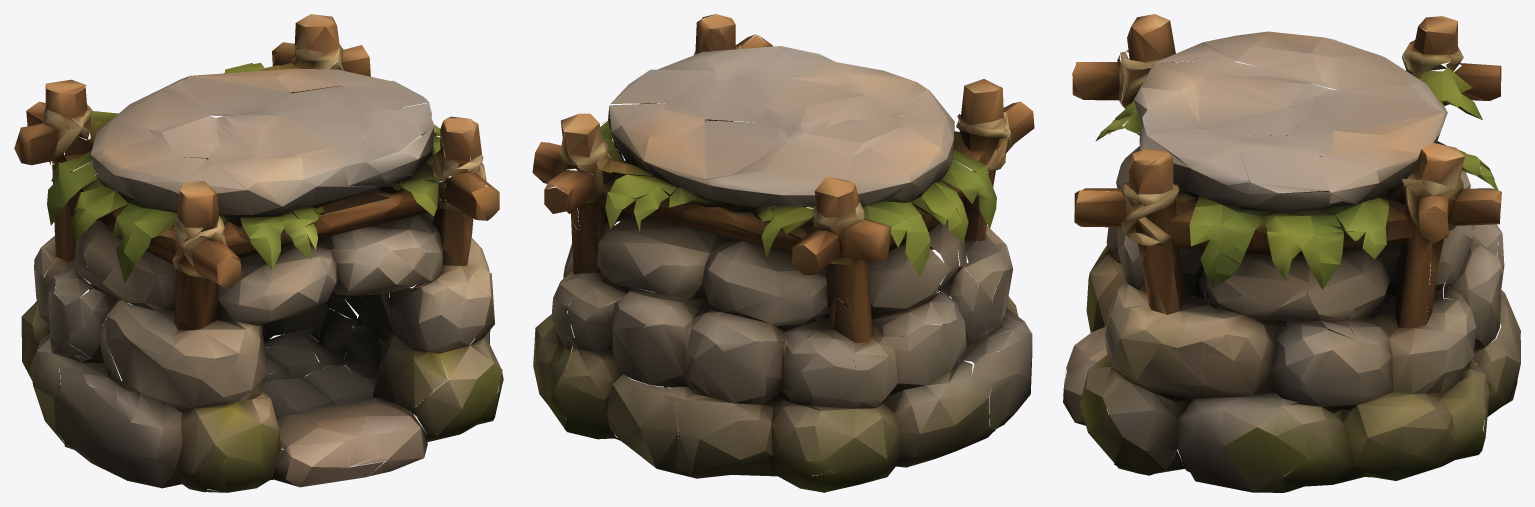
The model's file is building-stove-smooth-low.glb.
The picture shows the model from 3 angles, left to right: view 1: azimuth 30°, elevation 25°; view 2: azimuth 150°, elevation 25°; view 3: azimuth 270°, elevation 25°; orthographic projection. The views are drawn at different scales.
Parts seen in each view (by area): view 1: 0_stove; view 2: 0_stove; view 3: 0_stove.
Part boxes in pixels (x1,y1,x2,y2): 0_stove: (14,14,503,492); 0_stove: (532,14,1034,492); 0_stove: (1063,14,1520,492).
Size of the model in its own units: 1.83 by 1.26 by 1.69.
